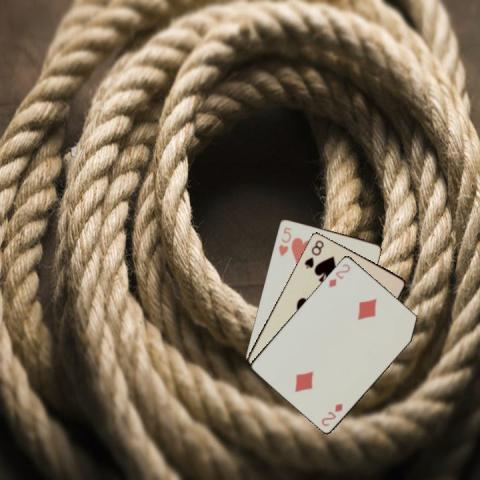2d: (326, 260, 352, 288), (318, 400, 344, 427)
5h: (275, 224, 293, 257)
8s: (301, 237, 326, 270)
